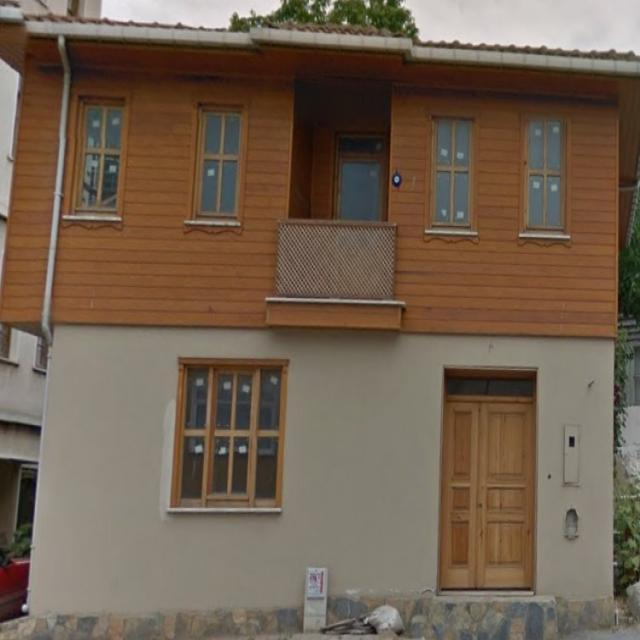Building: (1, 16, 637, 639)
